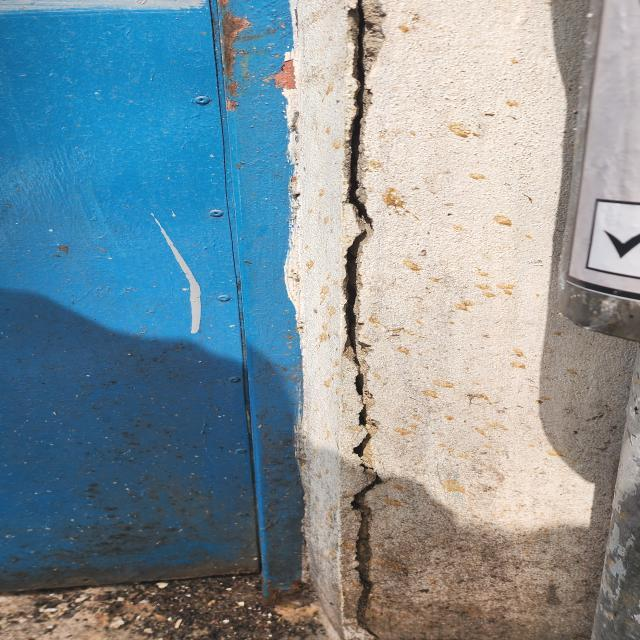SurfaceCrack: (162, 2, 306, 635), (302, 0, 423, 640), (546, 1, 639, 626)
